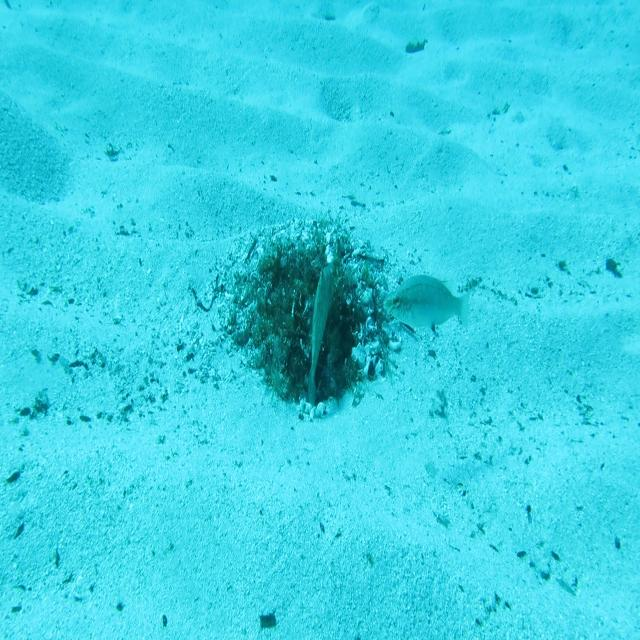FAN: (305, 258, 338, 410)
core_nest: (282, 259, 322, 297)
female: (380, 270, 472, 338)
nest: (215, 204, 412, 436)
vegetation: (404, 38, 428, 58), (604, 257, 623, 279), (258, 612, 278, 632)
